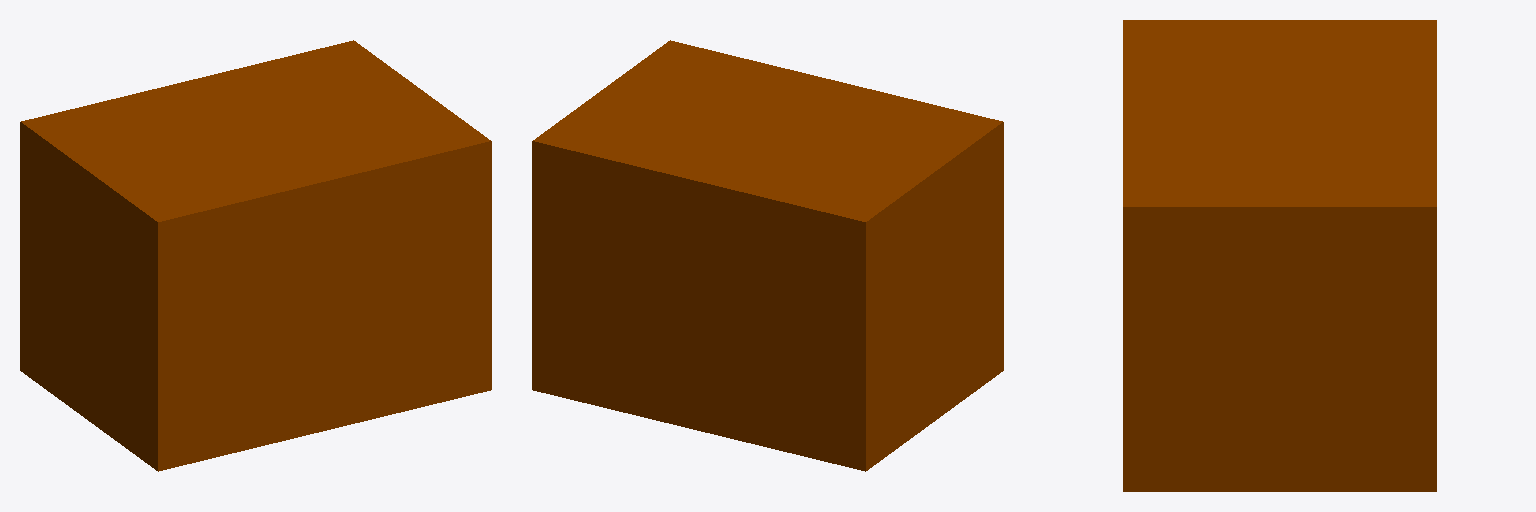
URDF robot description (block_red):
<?xml version="1.0"?>
<!-- color: brown -->
<robot name="block_red">
  <link name="base_link">
    <contact>
      <lateral_friction value="0.7"/>
      <spinning_friction value=".001"/>
    </contact>
    <inertial>
      <origin rpy="0 0 0" xyz="0 0 0"/>
      <mass value="1"/>
      <inertia ixx="1" ixy="0" ixz="0" iyy="1" iyz="0" izz="1"/>
    </inertial>
    <visual>
      <origin rpy="0 0 0" xyz="0.0 0.0 0.0"/>
      <geometry>
        <box size="0.07 0.05 0.05"/>
      </geometry>
      <material name="brown">
        <color rgba="0.6 0.3 0.0 1.0"/>
      </material>
    </visual>
    <collision>
      <origin rpy="0 0 0" xyz="0.0 0.0 0.0"/>
      <geometry>
        <box size="0.07 0.05 0.05"/>
      </geometry>
    </collision>
  </link>
</robot>

--- What the picture shows (computed from the rendered views, not written in the file) ---
Views: 3 orthographic renders of the robot side by side, from view 1: azimuth 30°, elevation 25°; view 2: azimuth 150°, elevation 25°; view 3: azimuth 270°, elevation 25°.
Model block_red with 1 links and 0 joints (none), rooted at base_link, posed every joint at zero.
Visible links, largest first — view 1: base_link; view 2: base_link; view 3: base_link.
Link boxes in pixels (<box>): base_link: <box>20,40,491,471</box>; base_link: <box>532,40,1003,471</box>; base_link: <box>1123,20,1436,491</box>.
Size in the robot's own frame: 0.07 by 0.05 by 0.05 metres.
Geometry: primitives only (box / cylinder / sphere), no mesh files.
